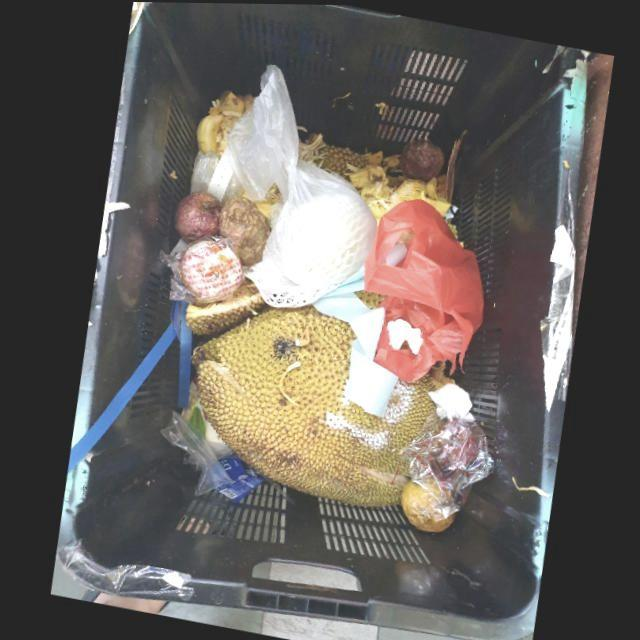plastic_bag: (362, 198, 481, 381)
